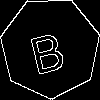B: (25, 23, 68, 75)
